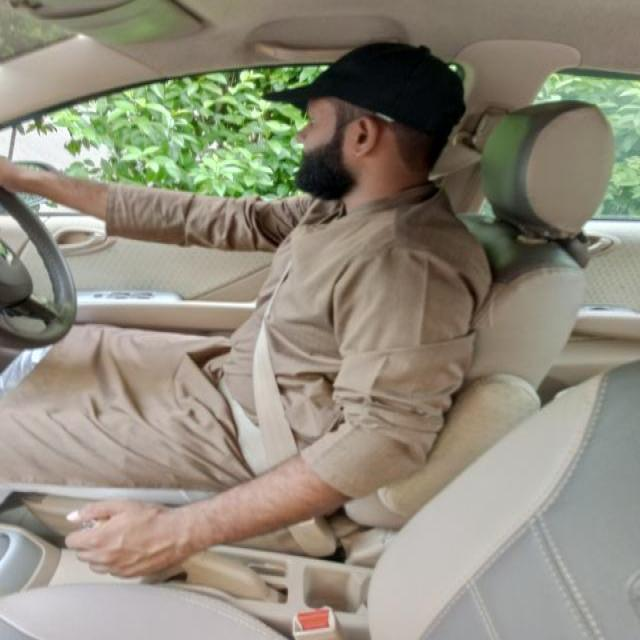seatbelt: (169, 208, 451, 598)
